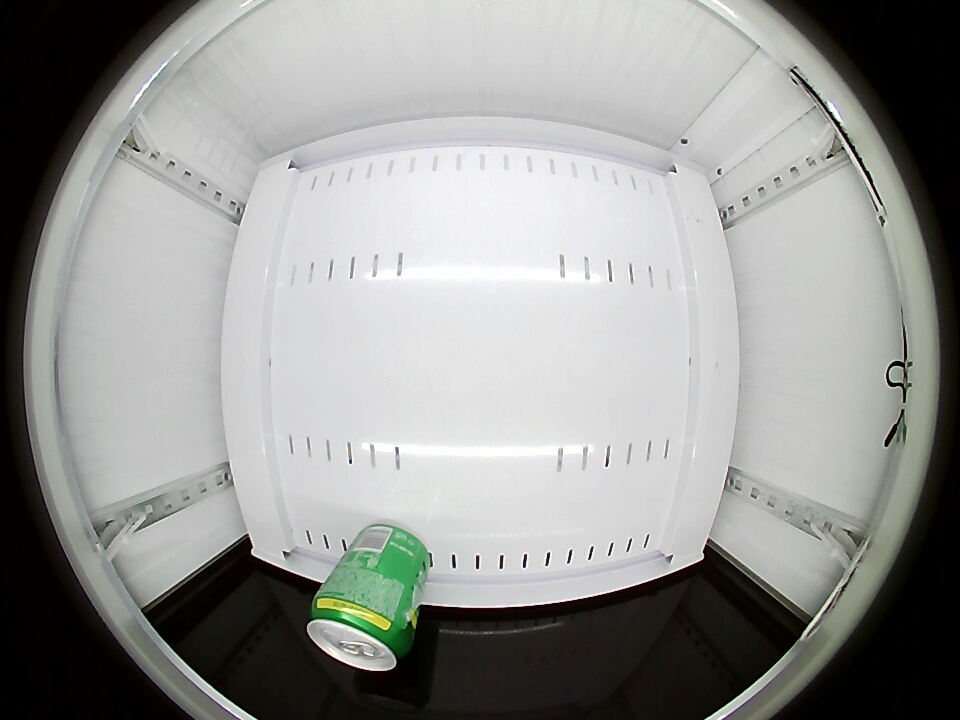xuebi2: (306, 588, 415, 671)
